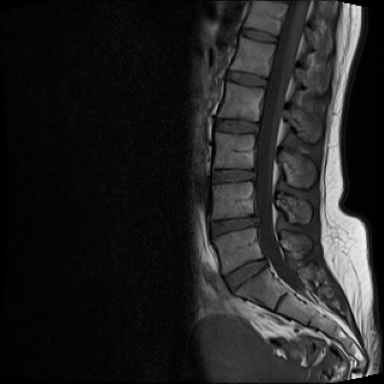Lumbar Disc Bulge (LDB): (219, 254, 273, 297), (202, 208, 266, 243)
Normal IVD: (208, 113, 264, 139), (220, 66, 271, 90), (205, 166, 258, 188), (235, 24, 280, 46)
Spinal Stenosis (SS): (246, 205, 270, 232), (255, 247, 271, 275)
